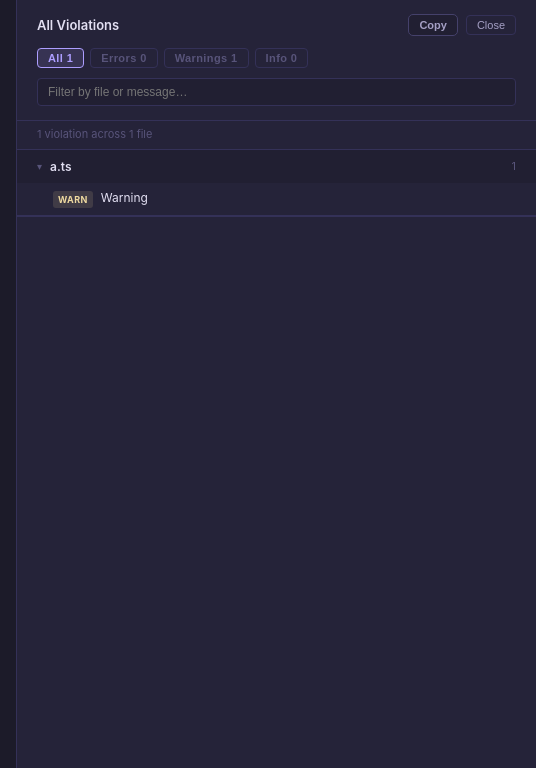
Test: ViolationsPanel › shows "No violations match your filter" when severity filter has no results
Click the button "Errors 0": (124,58) [90, 48, 158, 68]
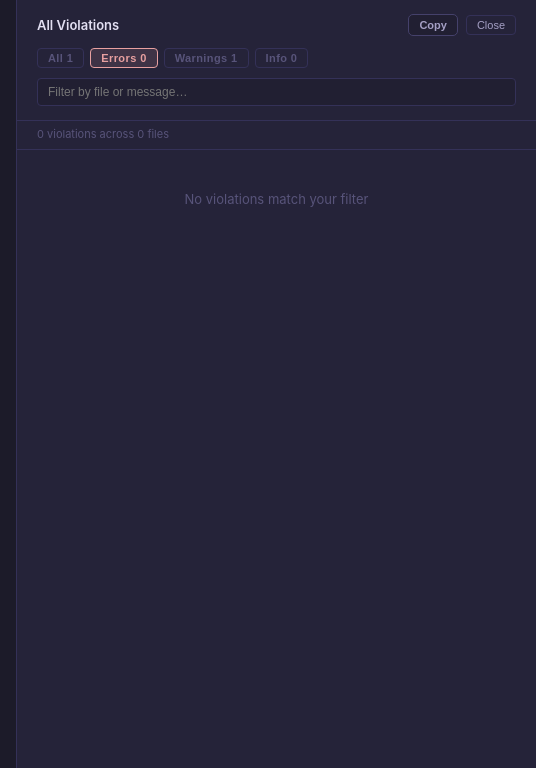
Now the text "No violations match your filter" is shown, box [184, 191, 368, 207]
